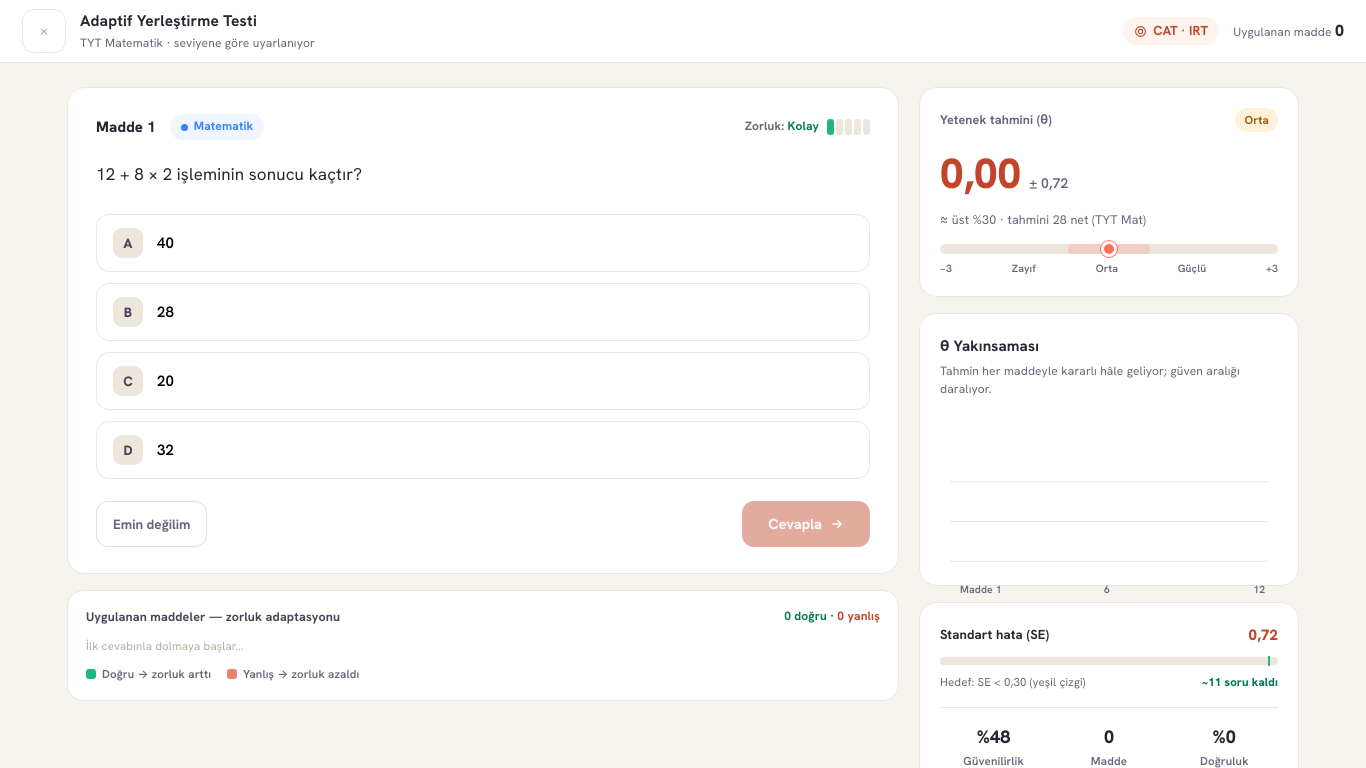
Test: AdaptifTestPage › seçim yokken Cevapla devre dışı; seçince aktif + ilerler
The width and height of the screenshot is (1366, 768).
expect the text "Yetenek tahmini (θ)" is shown: met, box [940,110,1052,130]
expect the text "0 doğru" is shown: met, box [784,608,827,624]
Click the radio button labelled "A 40". click: (128, 243)
box: [96,214,870,272]
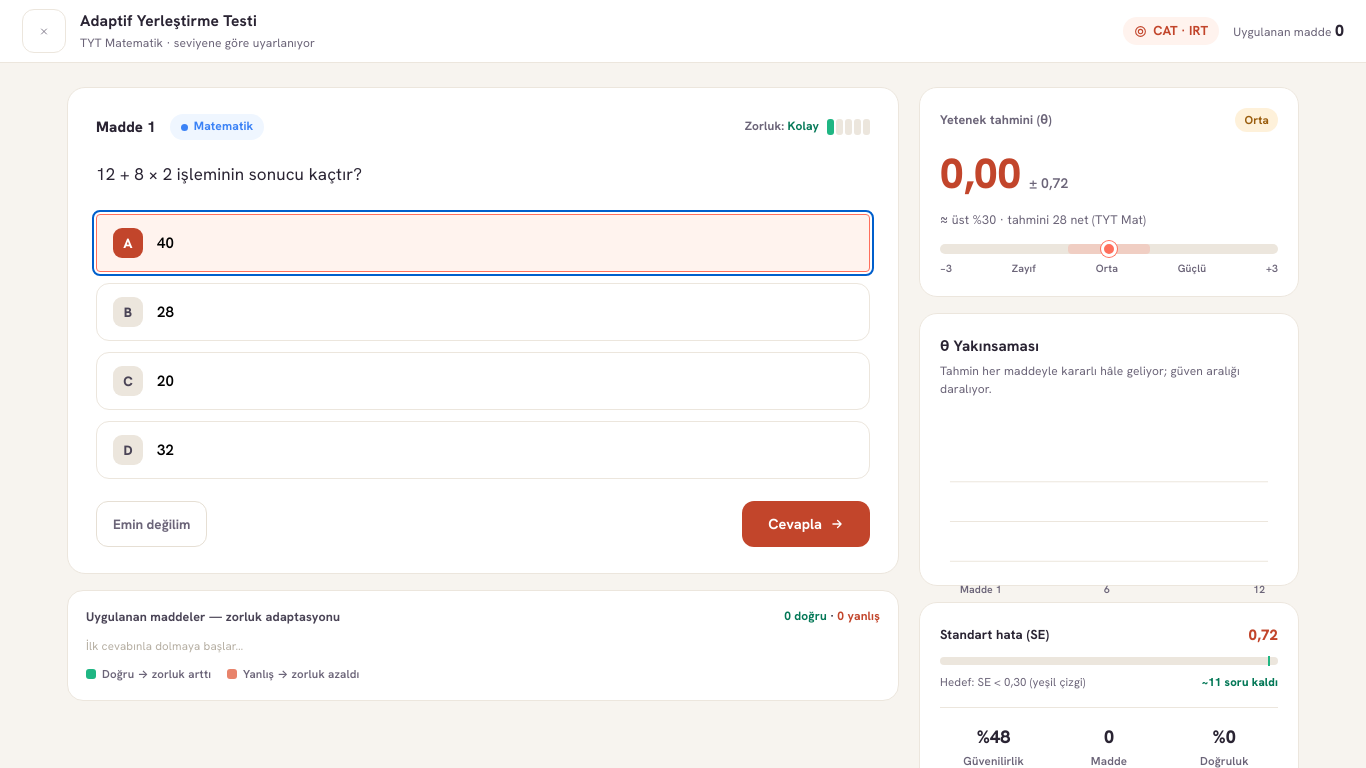
expect the button "Cevapla" is enabled: met
Click the button "Cevapla". click: (806, 524)
box: [742,501,870,547]
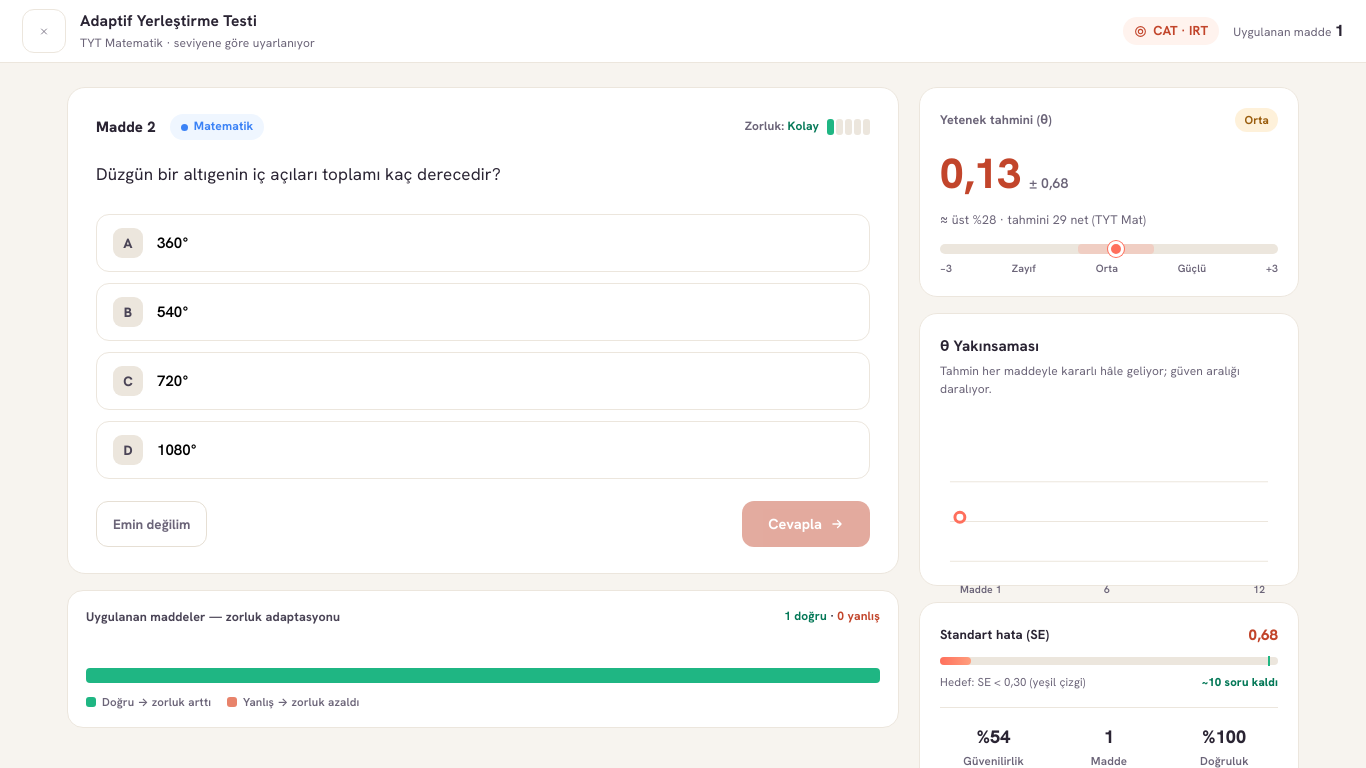
expect the text "1 doğru" is shown: met, box [784,608,827,624]
